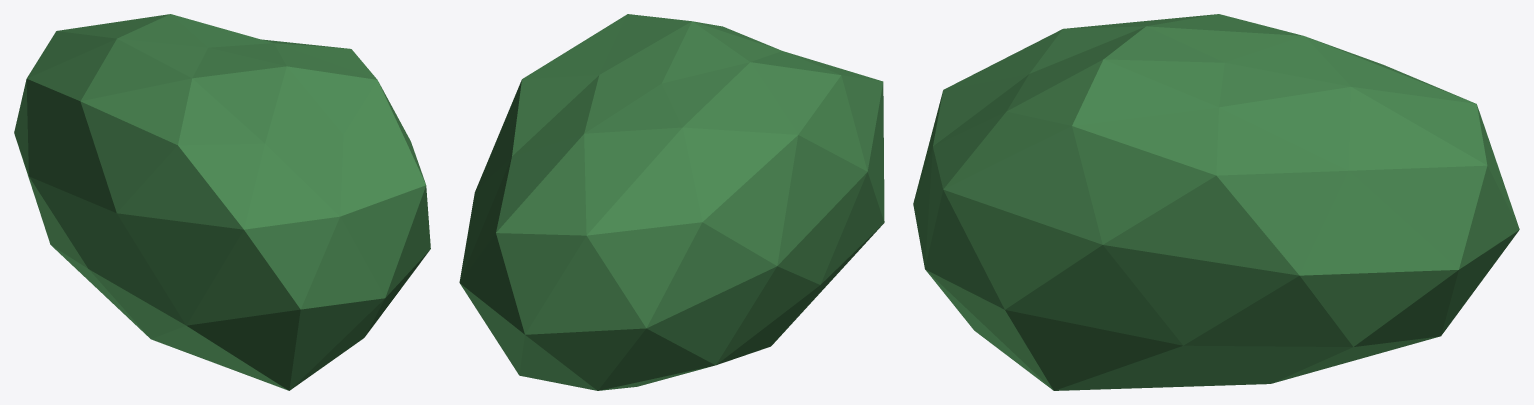
File: Arbusto4.fbx
The picture shows the model from 3 angles, left to right: view 1: azimuth 30°, elevation 25°; view 2: azimuth 150°, elevation 25°; view 3: azimuth 270°, elevation 25°; orthographic projection. The views are drawn at different scales.
Visible parts, largest first — view 1: Icosphere.015; view 2: Icosphere.015; view 3: Icosphere.015.
Part boxes in pixels (bbox=[...]): Icosphere.015: bbox=[14, 14, 430, 390]; Icosphere.015: bbox=[459, 14, 884, 390]; Icosphere.015: bbox=[913, 14, 1519, 390].
Bounding box in the file's own units: 102 × 89.49 × 163.
